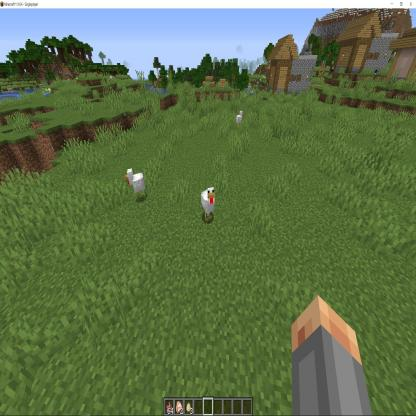minecraft-pigs: (123, 164, 149, 202), (200, 185, 217, 226), (233, 108, 244, 131)
